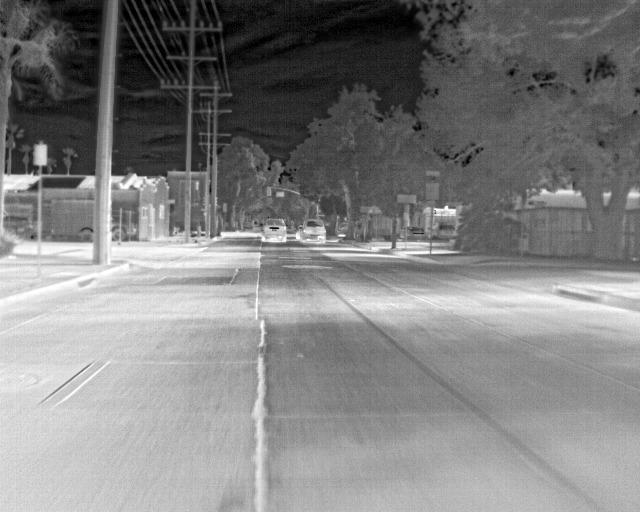car: (4, 199, 136, 242), (260, 218, 288, 242), (301, 219, 327, 242), (338, 222, 359, 238), (407, 227, 425, 238), (296, 225, 303, 239), (243, 221, 254, 229)
light: (267, 187, 271, 196)
sign: (34, 145, 47, 165), (426, 183, 439, 200), (398, 195, 416, 204), (361, 206, 376, 213), (426, 171, 440, 176), (276, 192, 284, 197), (223, 203, 227, 212)
